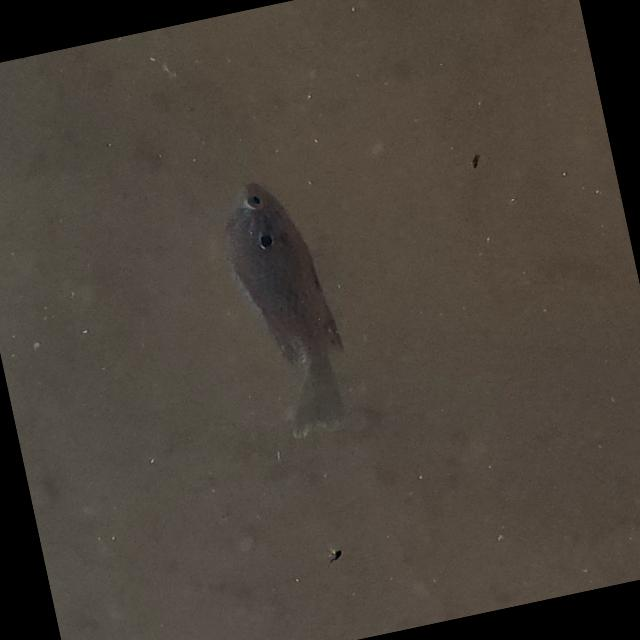Gunes Levregi: (207, 168, 362, 446)
